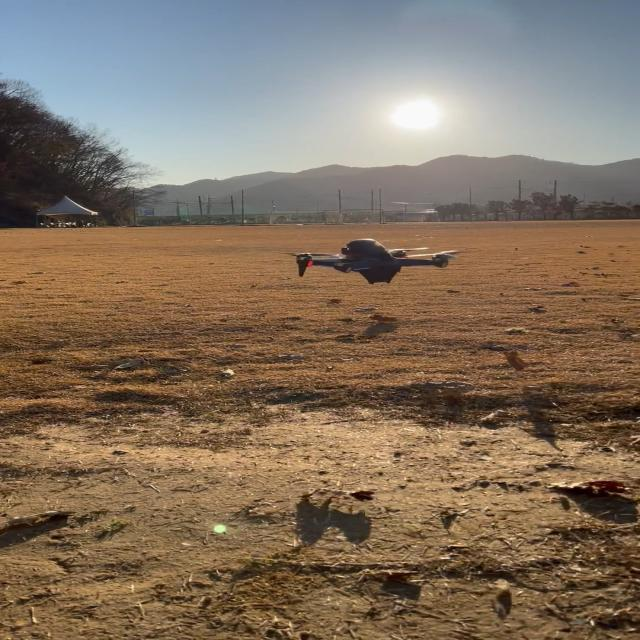Drone: (295, 239, 446, 285)
